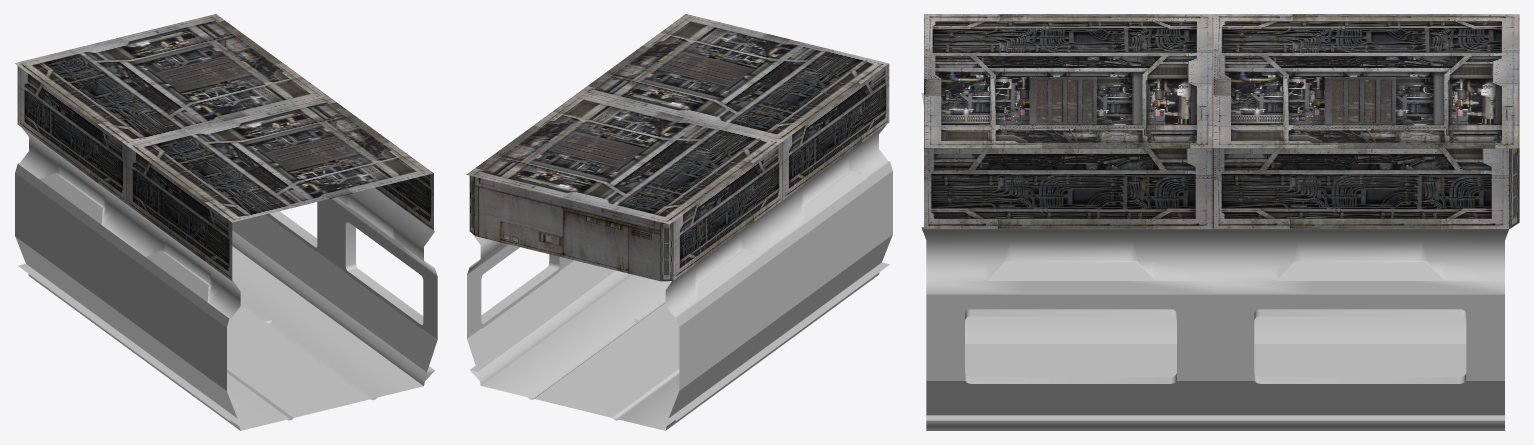
File: ARC_Corridor_WindowsOneSide.FBX
The picture shows the model from 3 angles, left to right: view 1: azimuth 30°, elevation 25°; view 2: azimuth 150°, elevation 25°; view 3: azimuth 270°, elevation 25°; orthographic projection. The views are drawn at different scales.
Parts seen in each view (by area): view 1: ARC_Corridor_WindowsOneSide_Ceiling, ARC_Corridor_WindowsOneSide_Walls, ARC_Corridor_WindowsOneSide_Floor; view 2: ARC_Corridor_WindowsOneSide_Ceiling, ARC_Corridor_WindowsOneSide_Walls, ARC_Corridor_WindowsOneSide_Floor; view 3: ARC_Corridor_WindowsOneSide_Ceiling, ARC_Corridor_WindowsOneSide_Walls, ARC_Corridor_WindowsOneSide_Floor.
Boxes of the visible parts, x1=… form: ARC_Corridor_WindowsOneSide_Ceiling: x1=14, y1=14, x2=433, y2=280; ARC_Corridor_WindowsOneSide_Walls: x1=15, y1=127, x2=437, y2=430; ARC_Corridor_WindowsOneSide_Floor: x1=227, y1=246, x2=423, y2=430; ARC_Corridor_WindowsOneSide_Ceiling: x1=466, y1=14, x2=889, y2=281; ARC_Corridor_WindowsOneSide_Walls: x1=467, y1=125, x2=892, y2=430; ARC_Corridor_WindowsOneSide_Floor: x1=481, y1=274, x2=679, y2=430; ARC_Corridor_WindowsOneSide_Ceiling: x1=924, y1=14, x2=1519, y2=228; ARC_Corridor_WindowsOneSide_Walls: x1=921, y1=93, x2=1509, y2=430; ARC_Corridor_WindowsOneSide_Floor: x1=965, y1=316, x2=1466, y2=376.
Size of the model in its own units: 603 by 555 by 1034.
